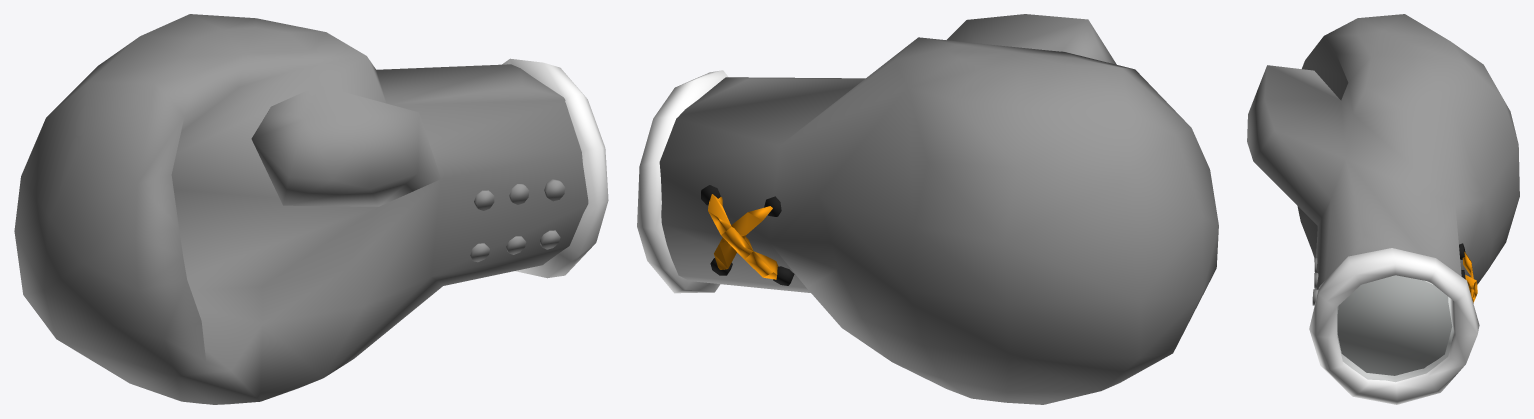
Rendered from Boxing Glove.FBX.
3 renders of one model, left to right at view 1: azimuth 30°, elevation 25°; view 2: azimuth 150°, elevation 25°; view 3: azimuth 270°, elevation 25°, orthographic. The views are drawn at different scales.
Visible parts, largest first — view 1: Glove, Glove Decor; view 2: Glove, Glove Decor; view 3: Glove, Glove Decor.
Boxes of the visible parts, bbox=[...] form: Glove: bbox=[14, 14, 588, 404]; Glove Decor: bbox=[502, 58, 608, 278]; Glove: bbox=[659, 14, 1218, 404]; Glove Decor: bbox=[637, 70, 794, 293]; Glove: bbox=[1247, 14, 1519, 375]; Glove Decor: bbox=[1309, 243, 1479, 404].
Bounding box in the file's own units: 0.3016 × 0.1878 × 0.1733.
